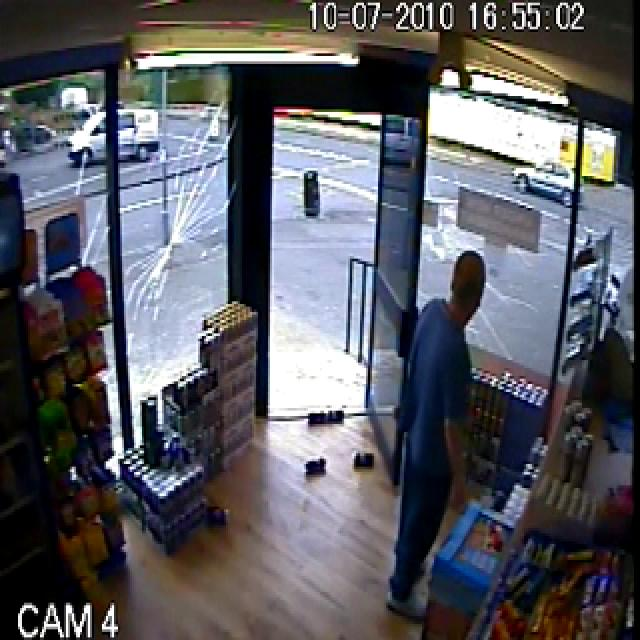vandalism: (143, 48, 376, 527)
